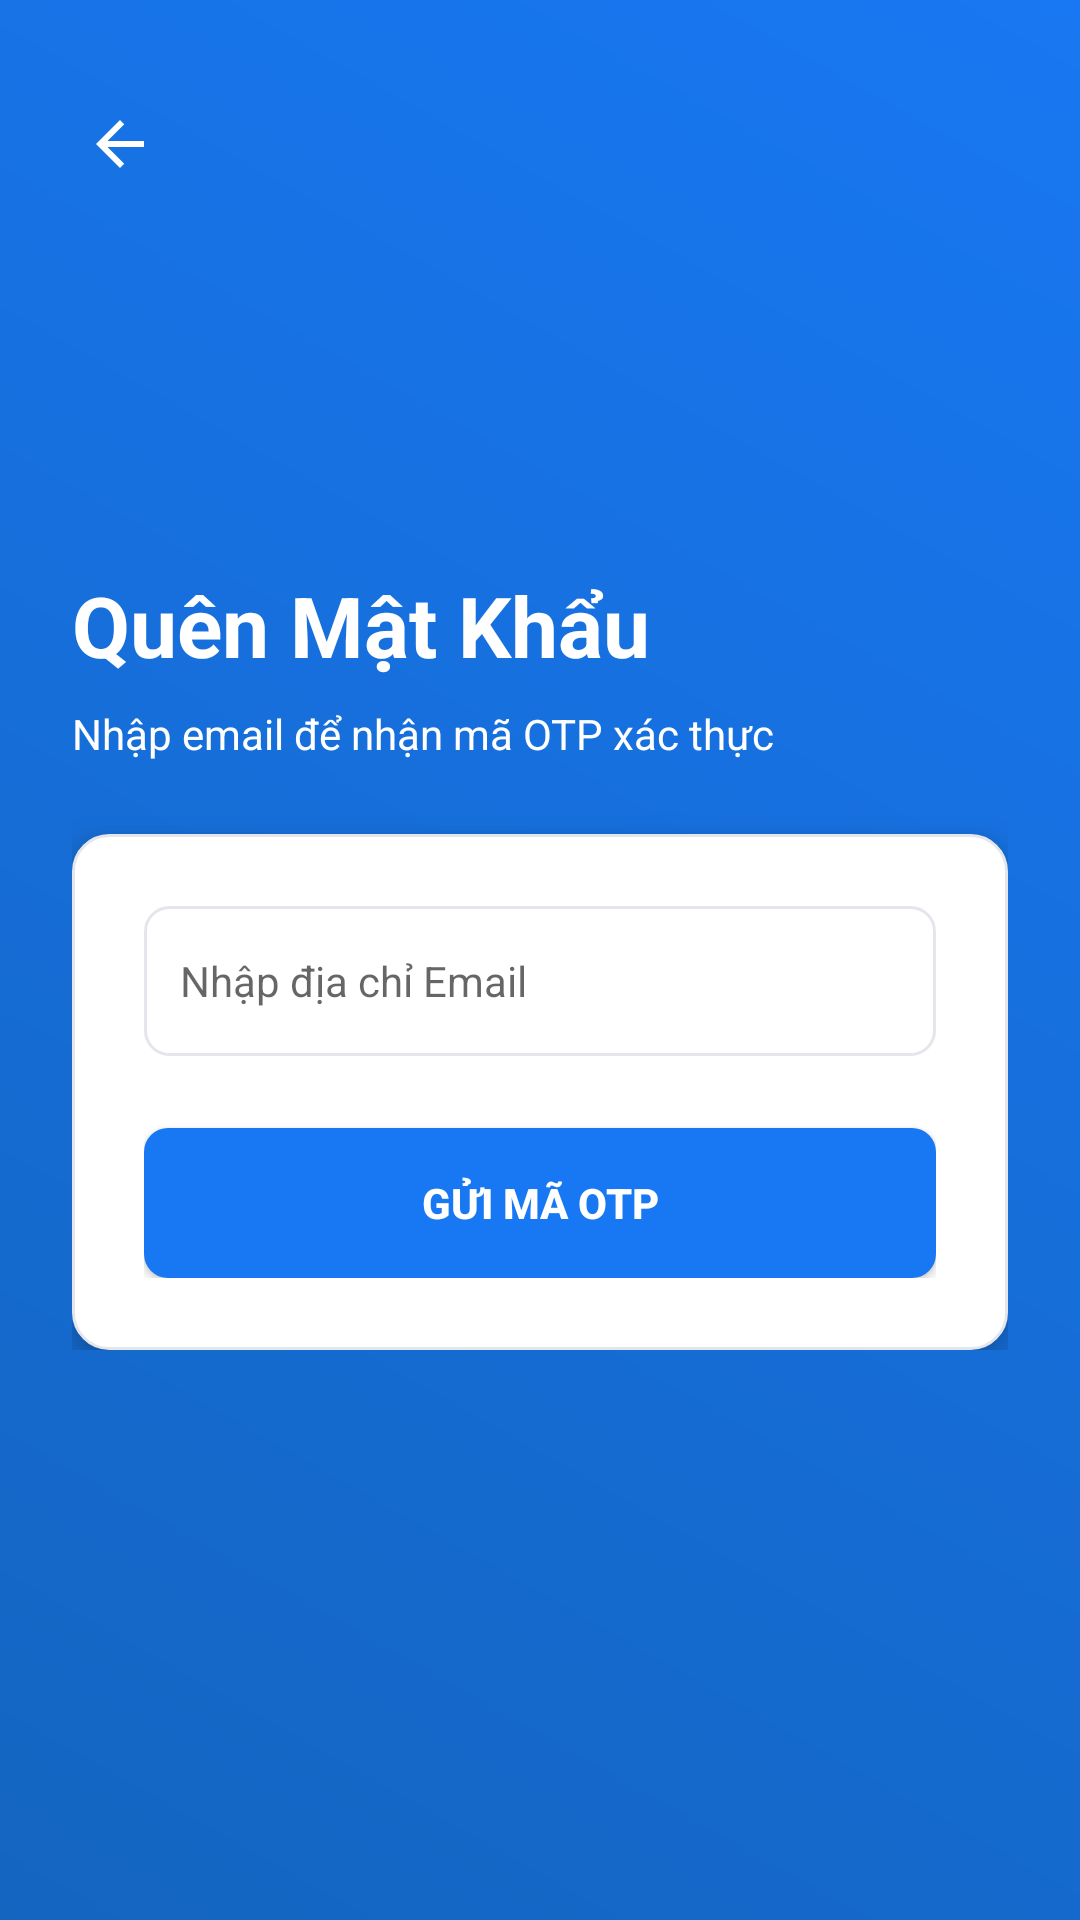

Icon click points for this 1080px x 1920px phone screenshot, format [x,y]:
arrow back: [120,144]
